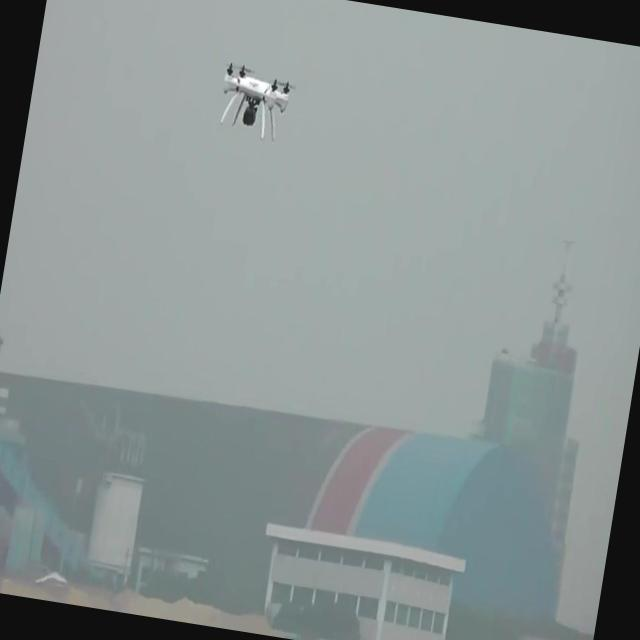drone: (214, 58, 298, 148)
